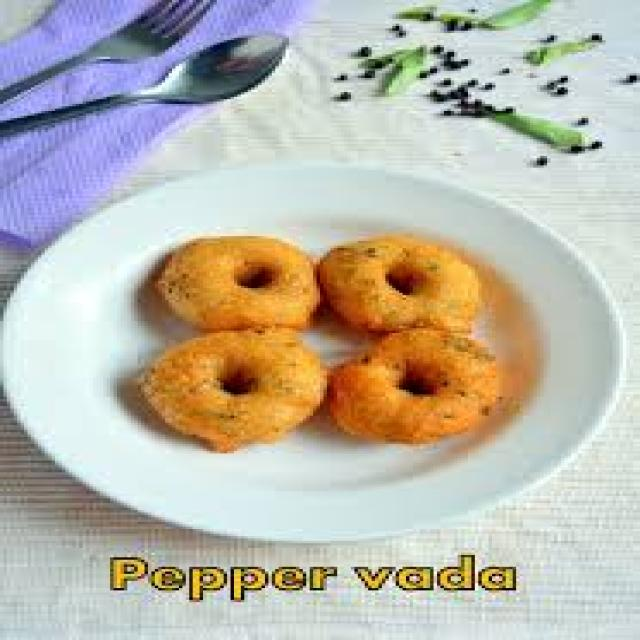MEDU VADA: (134, 328, 323, 451), (330, 331, 499, 439), (320, 236, 478, 333), (158, 239, 317, 328)
